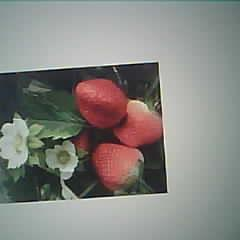straw-ripe: (93, 142, 144, 190), (77, 80, 128, 126)
